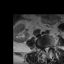CCS_normal: (46, 45, 47, 54)
LFS_stenosis: (49, 44, 51, 49)
LLS_normal: (47, 45, 49, 50)
RFS_severe_stenosis: (41, 45, 43, 51)
RLS_stenosis: (43, 46, 46, 51)
